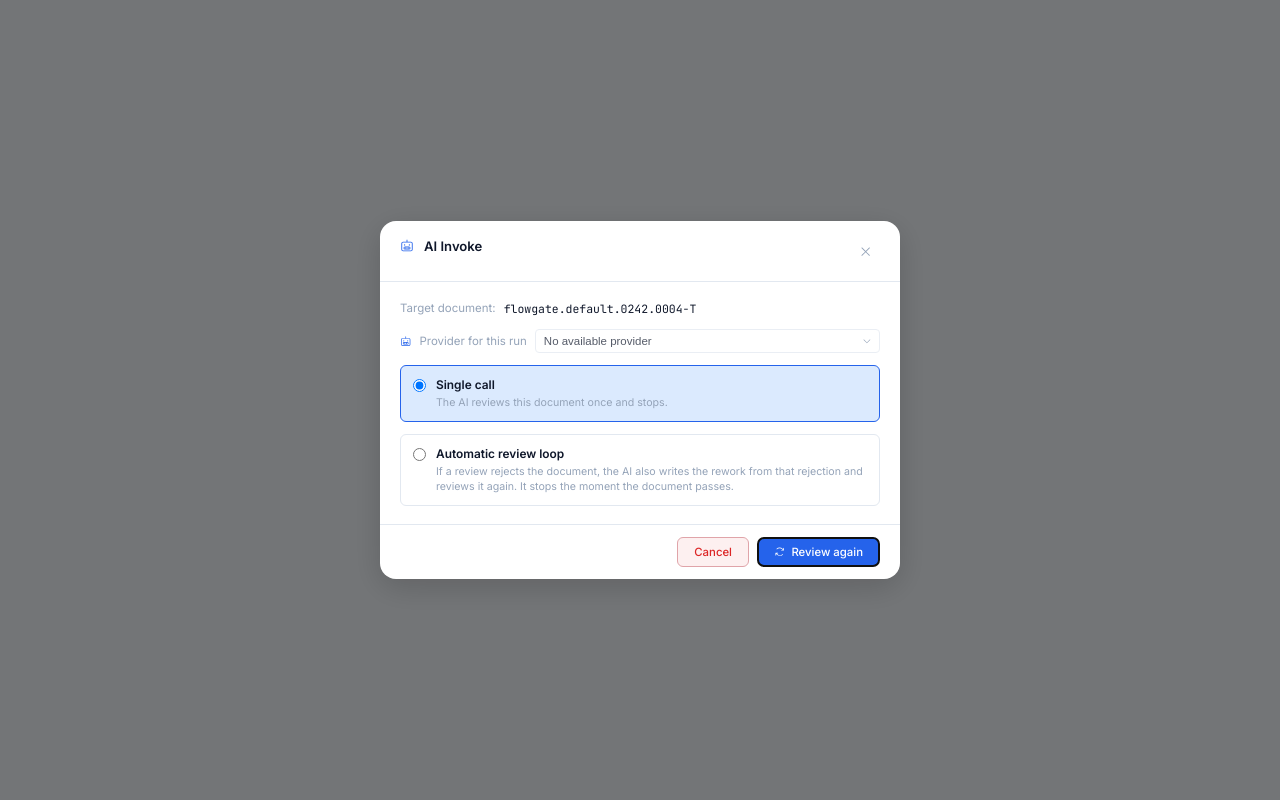
Test case: AiInvokeDialog 검수/재검수 단일 버튼 통합 (0544 T0013) › AC-5/AC-6: canStart 조건은 미검수/완료 상태 모두 동일하게 disabled 를 결정한다
The image size is (1280, 800).
What coordinates should you click on to do the following:
click the 2nd radio button
I would click on:
 (420, 455)
Its box is [413,448,426,461].
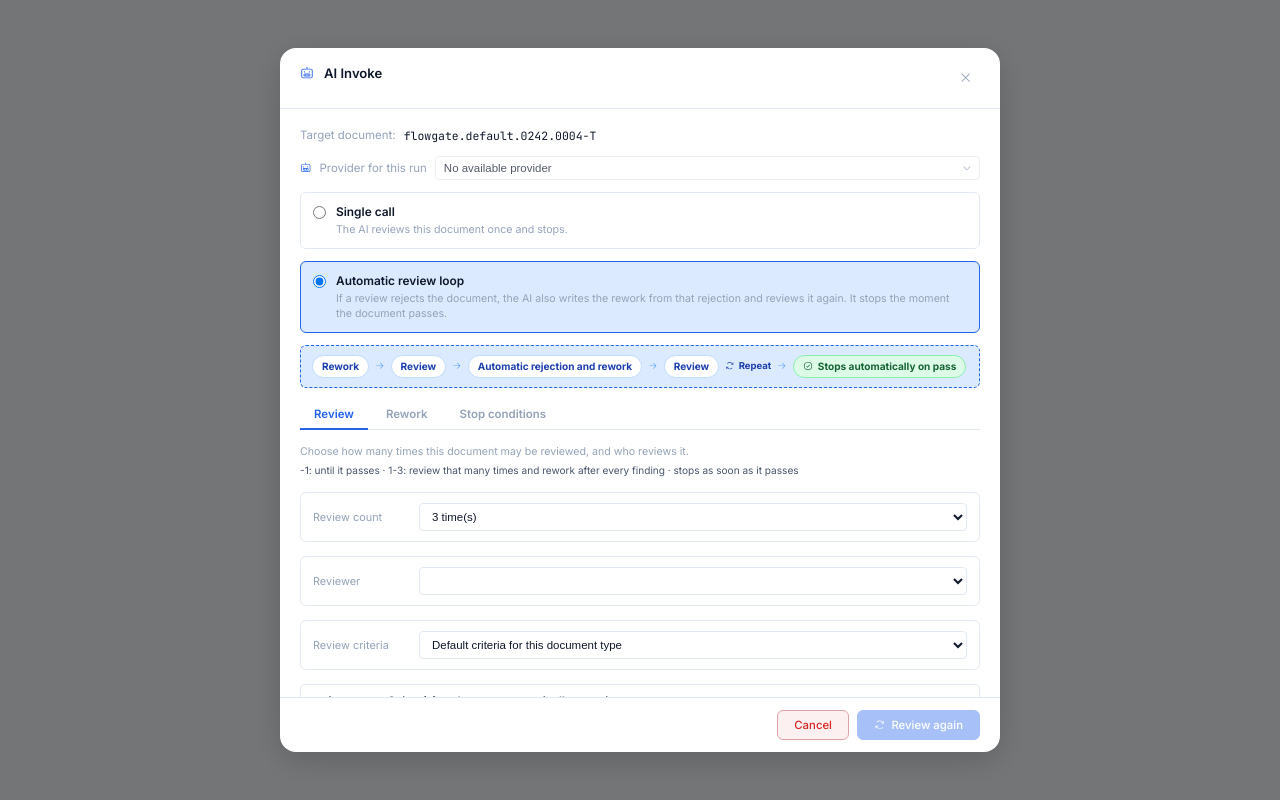
Check: the button "Review again" is disabled, box [857,710,980,740]
